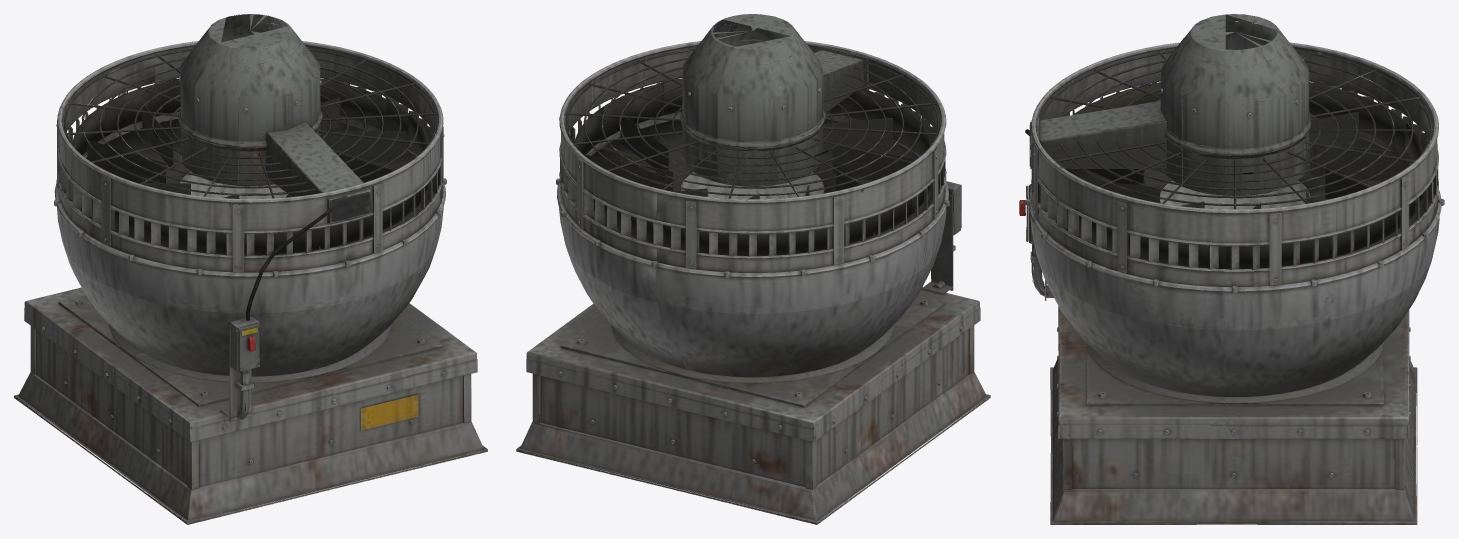
File: preview.glb
3 views of the same model, side by side, from view 1: azimuth 30°, elevation 25°; view 2: azimuth 150°, elevation 25°; view 3: azimuth 270°, elevation 25° (orthographic). The views are drawn at different scales.
Parts seen in each view (by area): view 1: SM_OCK_RoofExhaustFan_B_Housing, SM_OCK_RoofExhaustFan_B_Curb, SM_OCK_RoofExhaustFan_B_Top; view 2: SM_OCK_RoofExhaustFan_B_Housing, SM_OCK_RoofExhaustFan_B_Curb, SM_OCK_RoofExhaustFan_B_Top; view 3: SM_OCK_RoofExhaustFan_B_Housing, SM_OCK_RoofExhaustFan_B_Curb, SM_OCK_RoofExhaustFan_B_Top.
Boxes of the visible parts, x1=… form: SM_OCK_RoofExhaustFan_B_Housing: x1=54, y1=41, x2=446, y2=382; SM_OCK_RoofExhaustFan_B_Curb: x1=14, y1=208, x2=487, y2=524; SM_OCK_RoofExhaustFan_B_Top: x1=64, y1=14, x2=437, y2=255; SM_OCK_RoofExhaustFan_B_Housing: x1=556, y1=39, x2=949, y2=383; SM_OCK_RoofExhaustFan_B_Curb: x1=516, y1=103, x2=990, y2=524; SM_OCK_RoofExhaustFan_B_Top: x1=565, y1=14, x2=939, y2=255; SM_OCK_RoofExhaustFan_B_Housing: x1=1025, y1=42, x2=1444, y2=404; SM_OCK_RoofExhaustFan_B_Curb: x1=1019, y1=129, x2=1417, y2=524; SM_OCK_RoofExhaustFan_B_Top: x1=1029, y1=14, x2=1433, y2=269.
Bounding box in the file's own units: 0.939 × 1.03 × 0.9541.
3 materials, 3 textured.
